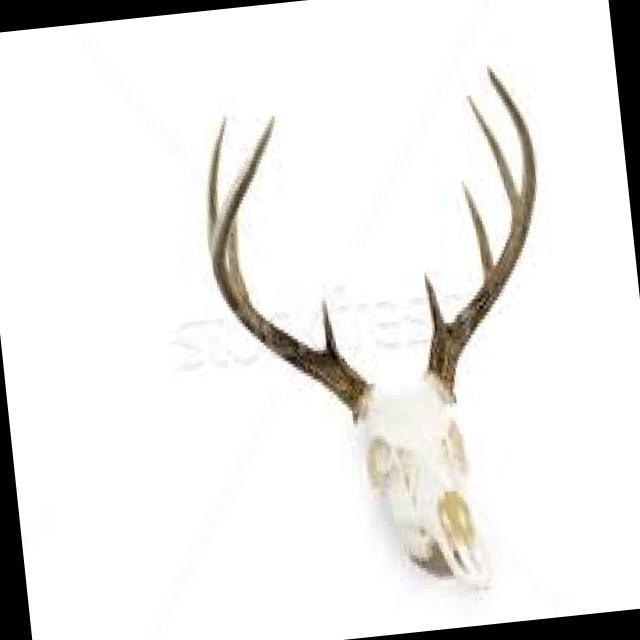L-F: (424, 64, 536, 402)
L-G1: (424, 269, 445, 332)
L-G2: (460, 178, 495, 281)
L-G3: (465, 93, 521, 220)
R-F: (211, 114, 374, 423)
R-G1: (320, 295, 339, 354)
